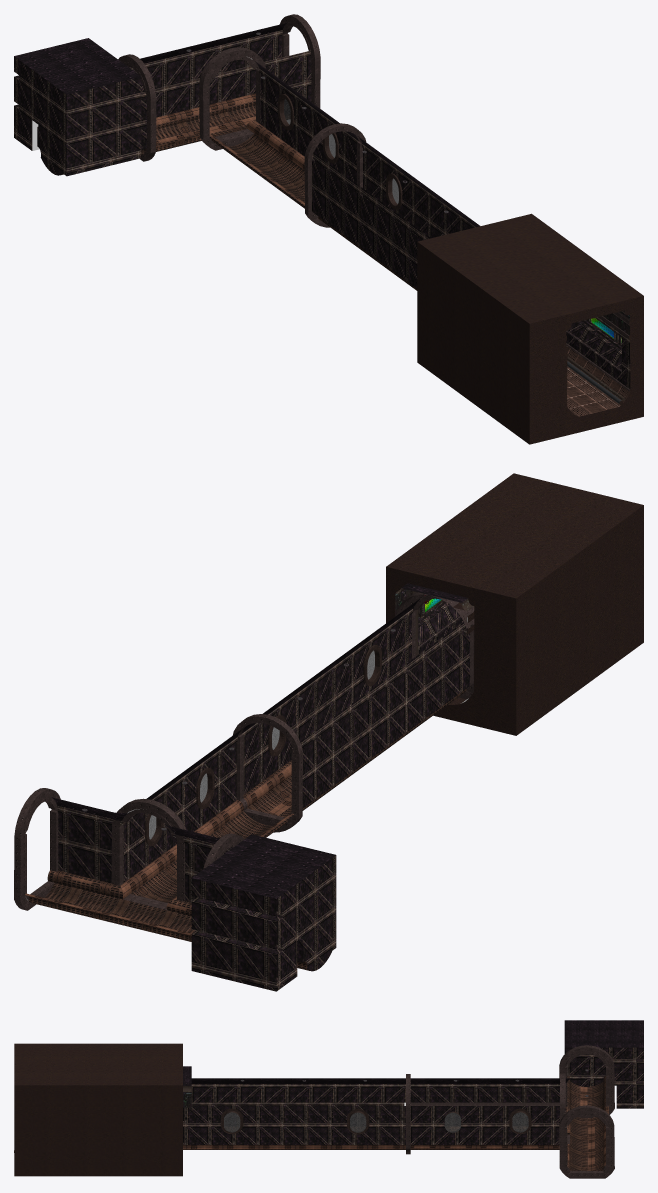
File: MENU DE LOS COJONES.fbx
The picture shows the model from 3 angles, top to bottom: view 1: azimuth 30°, elevation 25°; view 2: azimuth 150°, elevation 25°; view 3: azimuth 270°, elevation 25°; orthographic projection. The views are drawn at different scales.
Visible parts, largest first — view 1: Model; view 2: Model; view 3: Model.
Part boxes in pixels (x1,y1,x2,y2): Model: (14,14,643,444); Model: (14,473,643,991); Model: (14,1020,643,1178).
Bounding box in the file's own units: 8.45 × 3.9 × 24.54.
